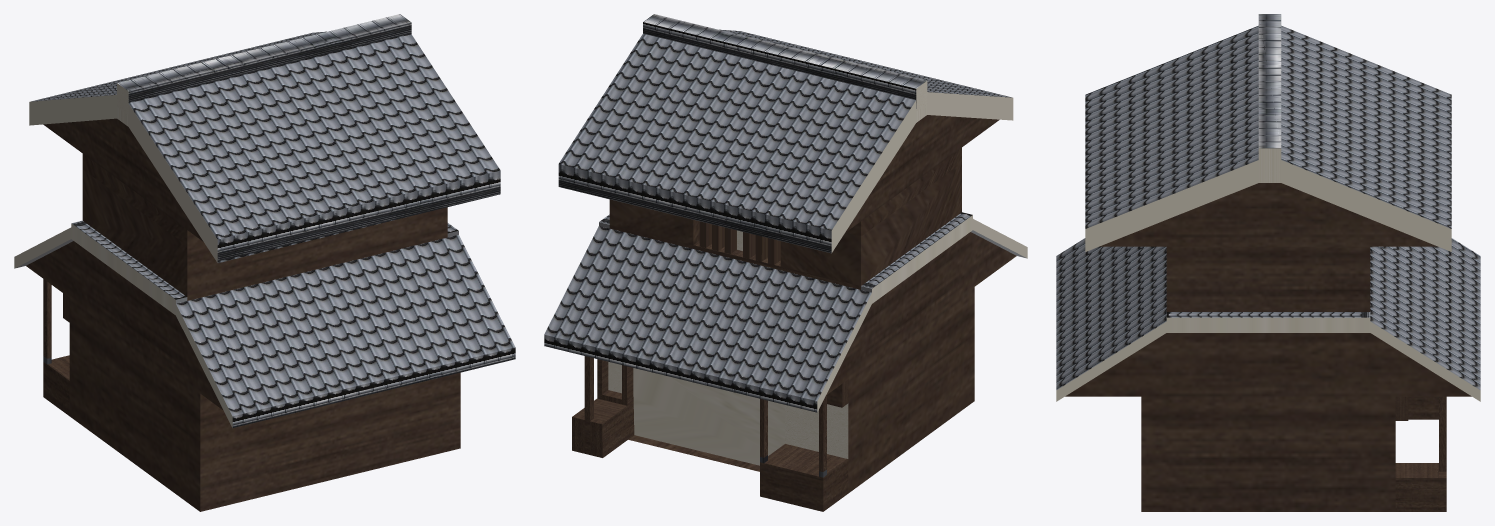
The model's file is shoka_3.fbx.
The picture shows the model from 3 angles, left to right: view 1: azimuth 30°, elevation 25°; view 2: azimuth 150°, elevation 25°; view 3: azimuth 270°, elevation 25°; orthographic projection. The views are drawn at different scales.
Parts seen in each view (by area): view 1: 立方体; view 2: 立方体; view 3: 立方体.
Boxes of the visible parts, left/top/right/bottom form: 立方体: left=14, top=14, right=515, bottom=511; 立方体: left=544, top=14, right=1027, bottom=511; 立方体: left=1056, top=14, right=1480, bottom=511.
Bounding box in the file's own units: 25.01 × 32 × 33.37.
Materials: 3 (3 with a texture image).
